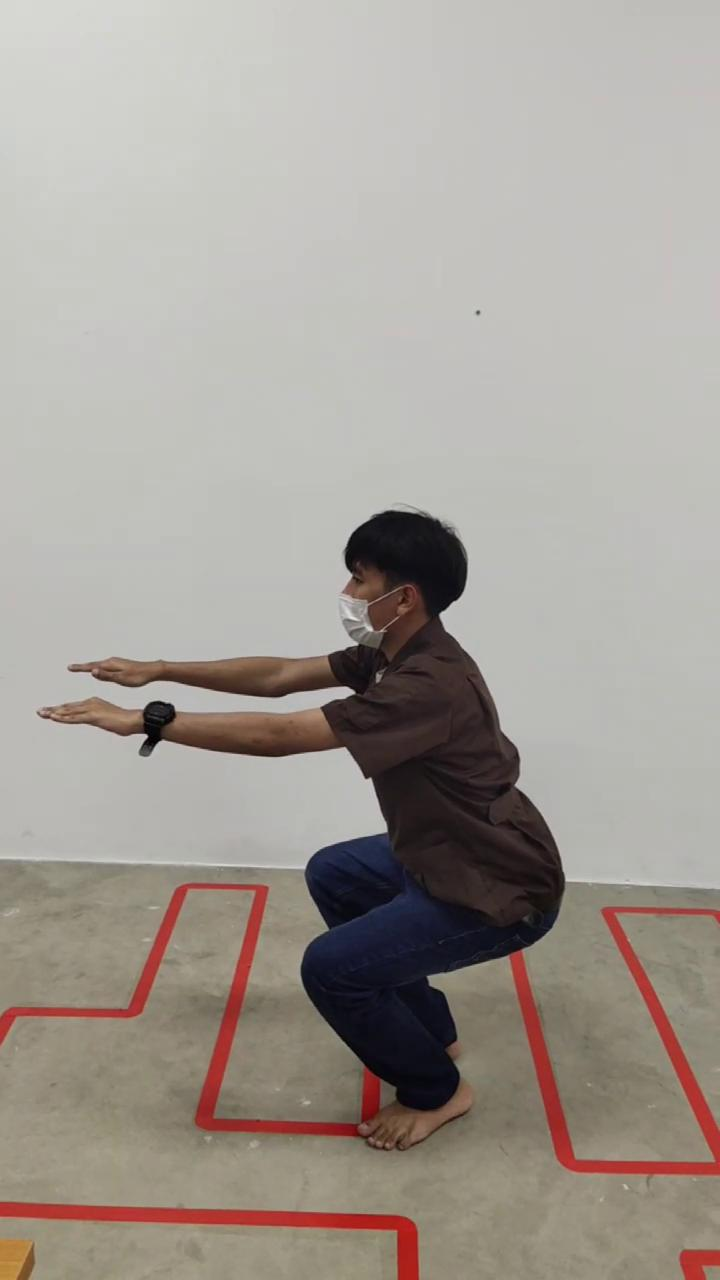squat down: (45, 509, 566, 1152)
